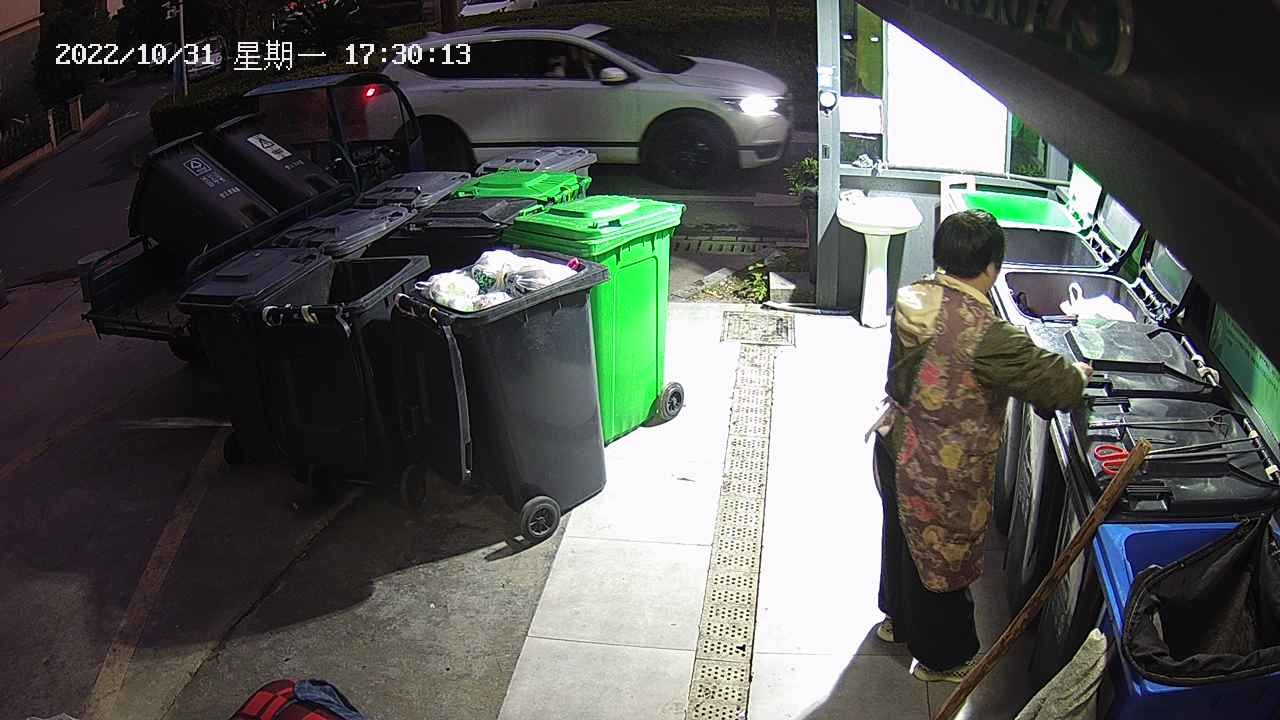person: (862, 207, 1094, 685)
